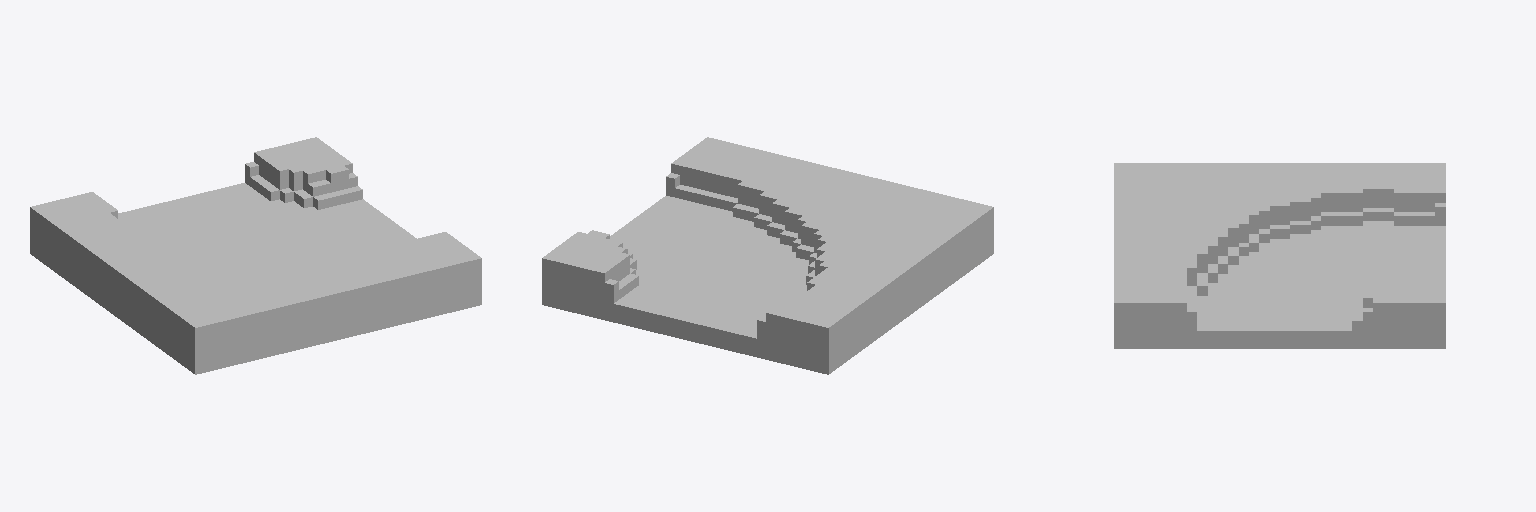
The model's file is Plaines Map-34.obj.
3 views of the same model, side by side, from view 1: azimuth 30°, elevation 25°; view 2: azimuth 150°, elevation 25°; view 3: azimuth 270°, elevation 25° (orthographic).
Parts seen in each view (by area): view 1: object 1; view 2: object 1; view 3: object 1.
Part boxes in pixels (x1,y1,x2,y2): object 1: (30,137,481,374); object 1: (542,137,993,374); object 1: (1114,163,1445,348).
Bounding box in the file's own units: 3.2 × 0.5 × 3.2.